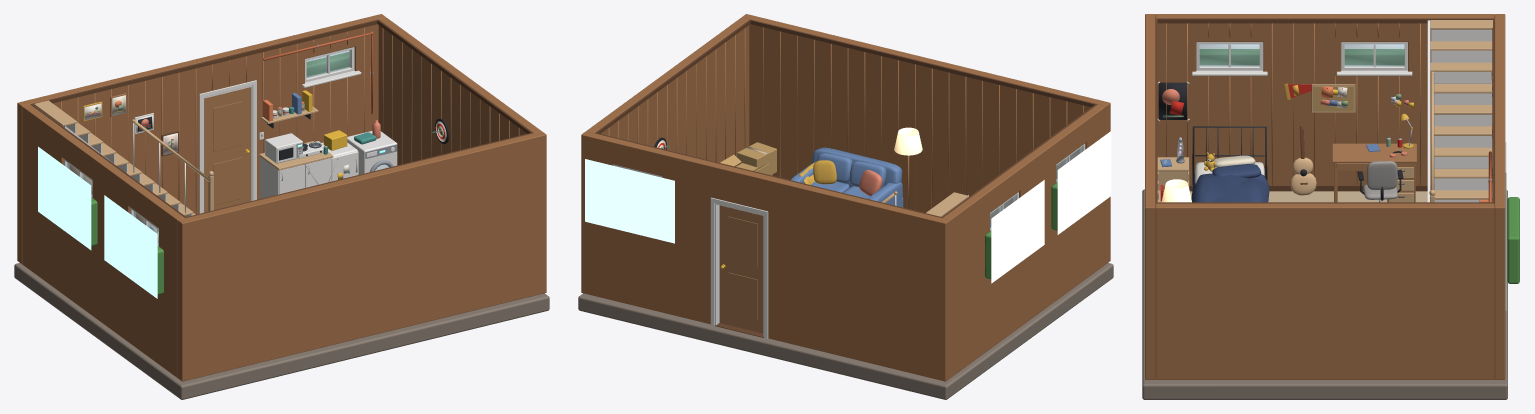
File: tier0.glb
3 renders of one model, left to right at view 1: azimuth 30°, elevation 25°; view 2: azimuth 150°, elevation 25°; view 3: azimuth 270°, elevation 25°, orthographic. The views are drawn at different scales.
Visible parts, largest first — view 1: wall_s, wall_n, wall_w, wall_e, slab, door_mesh, window_mesh, window_2_mesh, wall_n_trim, kitchenette_mesh, decor_n_mesh, stairs_mesh (+5 smaller); view 2: wall_n, wall_s, wall_w, wall_e, slab, door_mesh, window_3_mesh, wall_s_trim, window_2_mesh, window_mesh, couch_mesh, wall_e_trim (+4 smaller); view 3: wall_e, wall_w, stairs_mesh, slab, wall_n, computer_mesh, wall_w_trim, wall_s, bed_mesh, decor_w_mesh, window_2_mesh, window_mesh (+9 smaller).
Part boxes in pixels (bbox=[...]): wall_s: bbox=[177, 131, 546, 381]; wall_n: bbox=[17, 14, 385, 263]; wall_w: bbox=[22, 104, 184, 377]; wall_e: bbox=[378, 17, 541, 165]; slab: bbox=[14, 263, 549, 399]; door_mesh: bbox=[199, 80, 256, 213]; window_mesh: bbox=[38, 146, 97, 250]; window_2_mesh: bbox=[104, 195, 163, 298]; wall_n_trim: bbox=[32, 19, 377, 231]; kitchenette_mesh: bbox=[259, 133, 333, 198]; decor_n_mesh: bbox=[83, 31, 373, 156]; stairs_mesh: bbox=[34, 100, 213, 216]; wall_n: bbox=[581, 131, 950, 381]; wall_s: bbox=[742, 14, 1110, 263]; wall_w: bbox=[943, 104, 1105, 377]; wall_e: bbox=[586, 17, 749, 166]; slab: bbox=[578, 263, 1113, 399]; door_mesh: bbox=[710, 197, 768, 338]; window_3_mesh: bbox=[585, 159, 674, 243]; wall_s_trim: bbox=[750, 19, 1095, 210]; window_2_mesh: bbox=[1051, 131, 1111, 234]; window_mesh: bbox=[985, 180, 1044, 283]; couch_mesh: bbox=[791, 147, 903, 207]; wall_e_trim: bbox=[595, 19, 750, 166]; wall_e: bbox=[1155, 203, 1494, 379]; wall_w: bbox=[1155, 14, 1494, 185]; stairs_mesh: bbox=[1427, 20, 1494, 202]; slab: bbox=[1142, 189, 1507, 399]; wall_n: bbox=[1494, 14, 1505, 379]; computer_mesh: bbox=[1332, 113, 1416, 202]; wall_w_trim: bbox=[1157, 18, 1492, 191]; wall_s: bbox=[1145, 14, 1155, 379]; bed_mesh: bbox=[1191, 126, 1269, 202]; decor_w_mesh: bbox=[1157, 81, 1413, 121]; window_2_mesh: bbox=[1192, 42, 1267, 75]; window_mesh: bbox=[1336, 42, 1412, 75].
Size of the model in its own units: 6.76 by 3 by 5.36.
